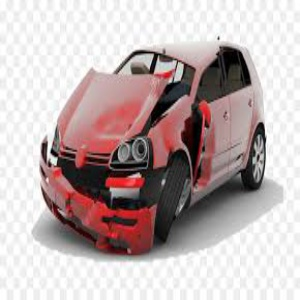bumper: (53, 197, 162, 258)
